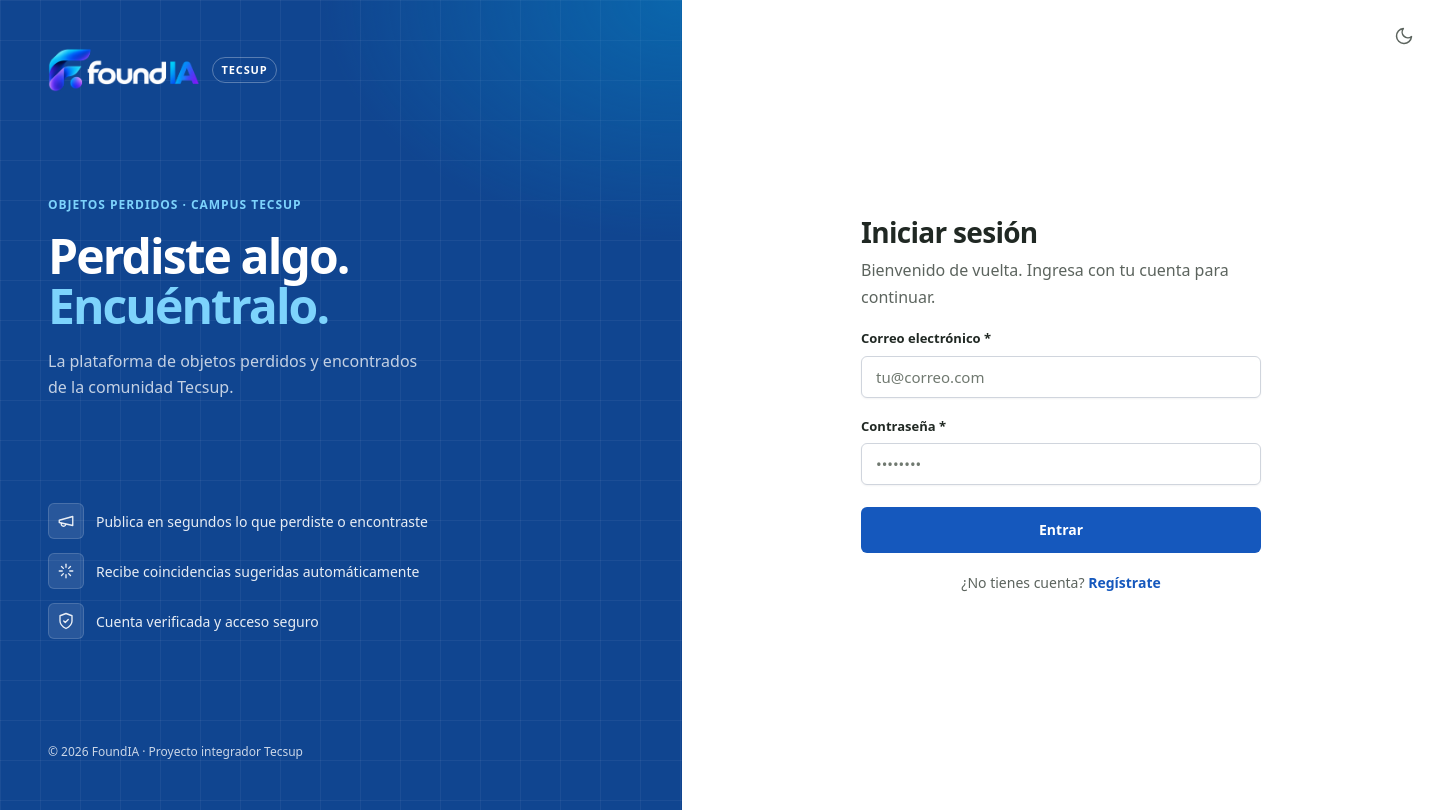
el login conserva el error de reenvío sin navegar a una confirmación falsa
Type "amore@prueba.invalid" into the field labelled "Correo electrónico *".
click(1061, 377); type("amore@prueba.invalid")  # box [861,356,1261,398]
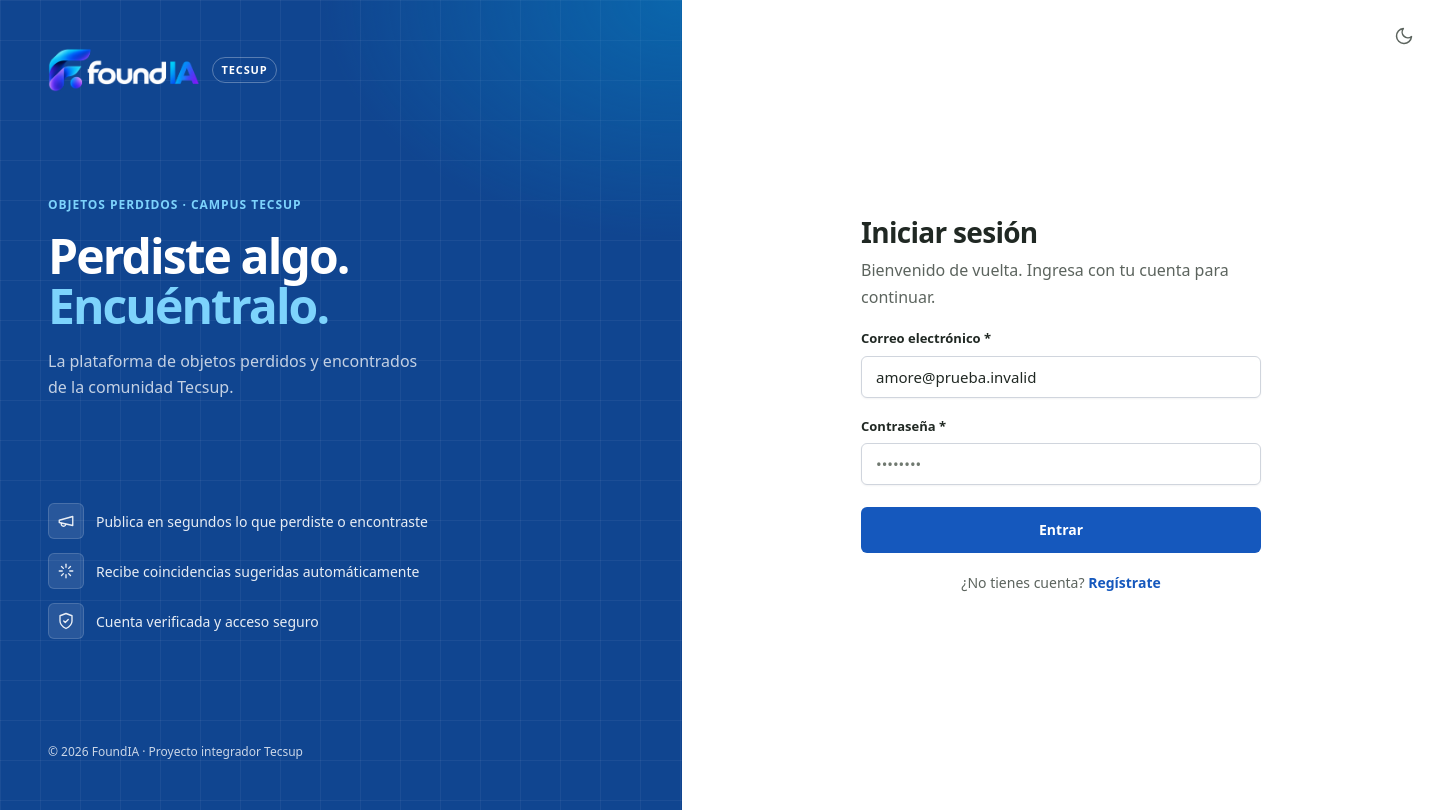
Type "Segura123!" into the password field labelled "Contraseña *".
click(1061, 464); type("Segura123!")  # box [861,443,1261,485]
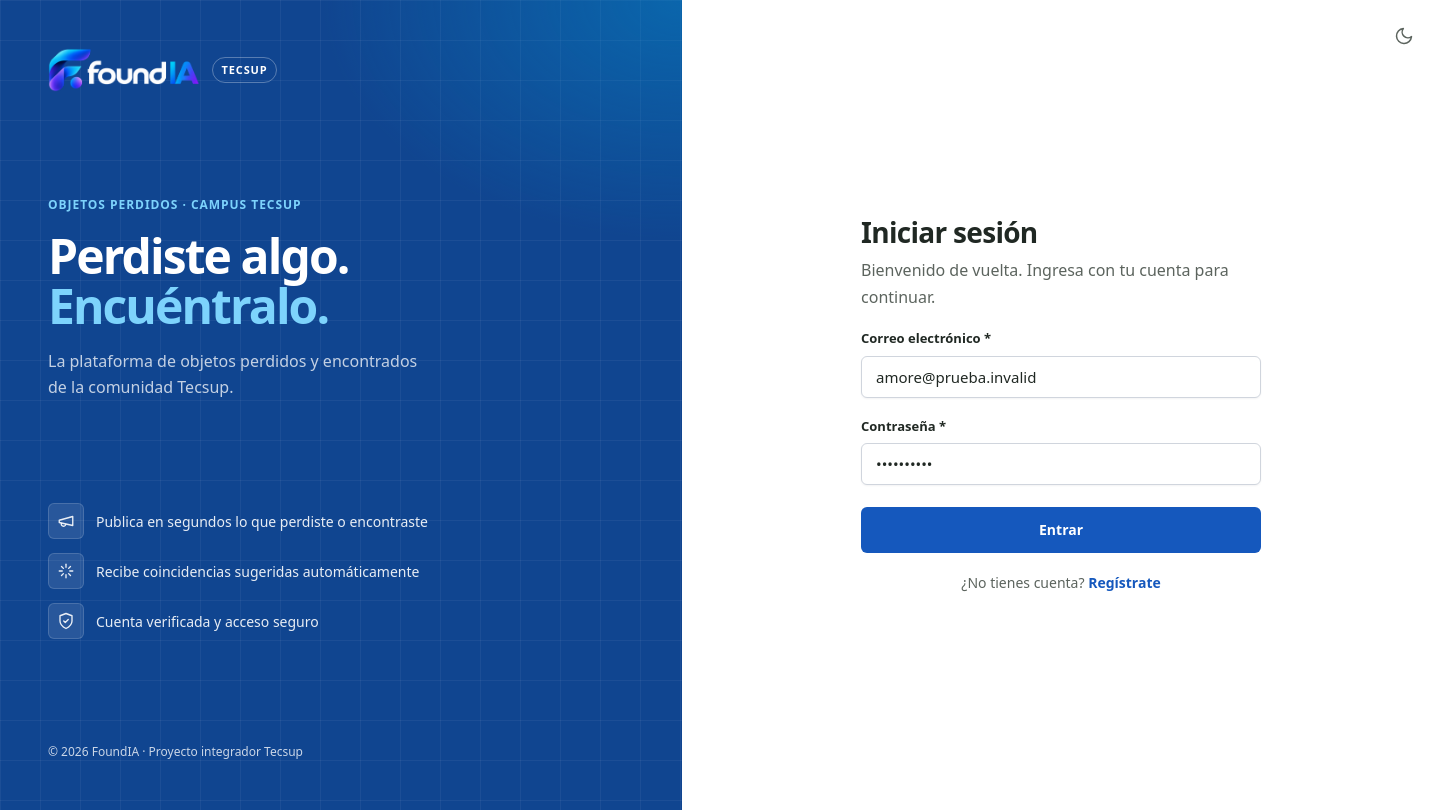
Click the button "Entrar".
click(1061, 530)  # box [861,507,1261,553]
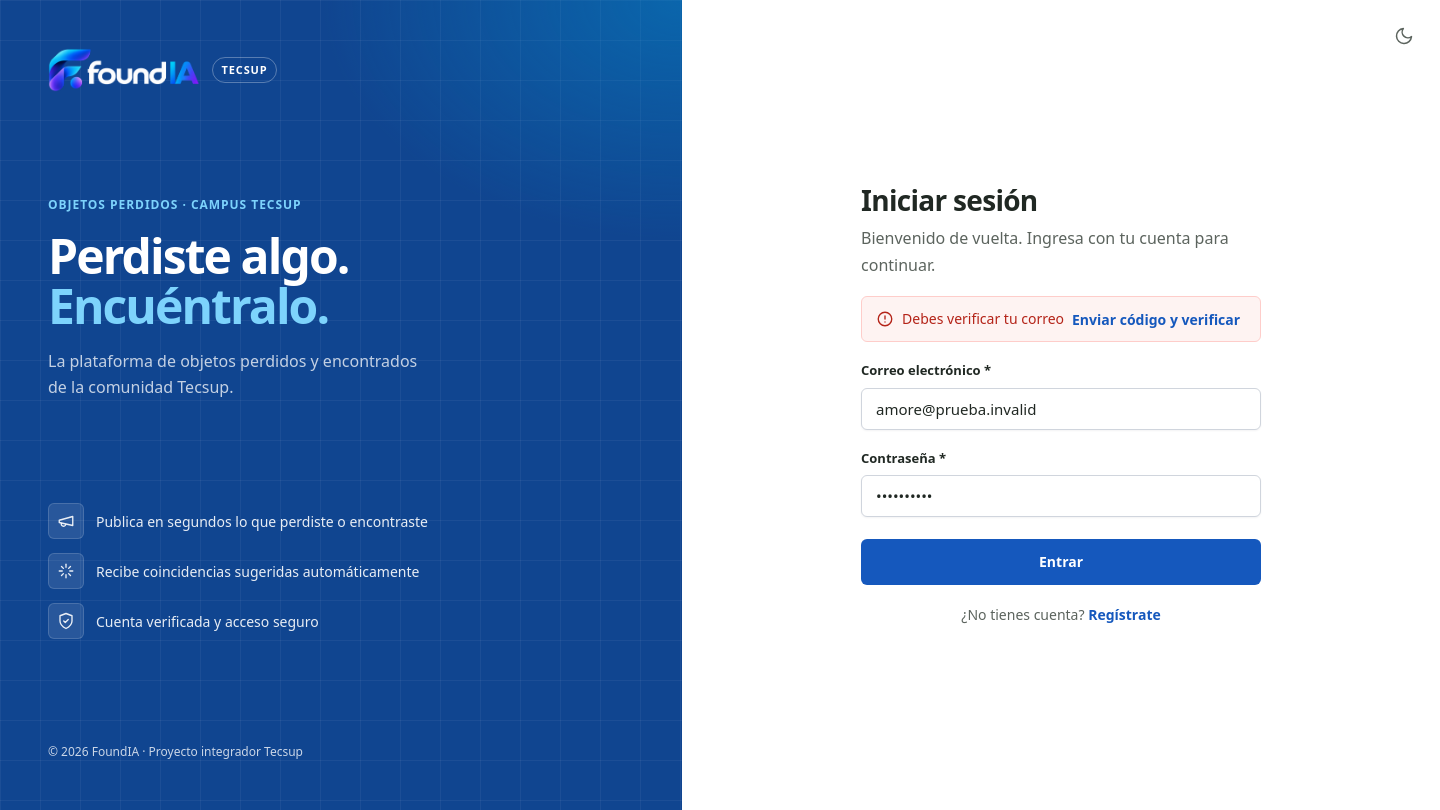
Click the button "Enviar código y verificar".
click(1156, 319)  # box [1072,310,1240,329]
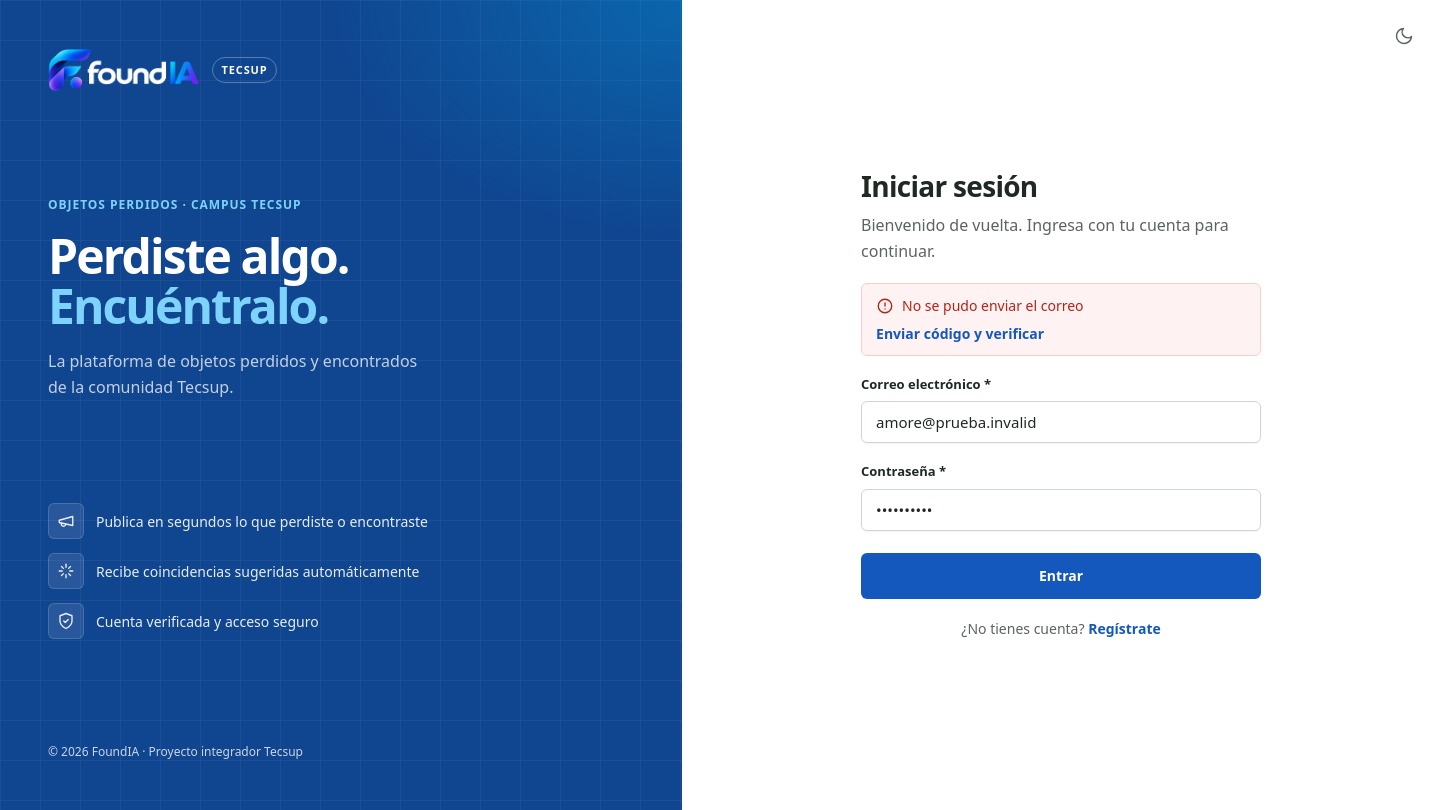
Expected: the heading "Iniciar sesión" is shown, [861,167,1038,205]
Now the text "No se pudo enviar el correo Enviar código y verificar" is shown, box [861,282,1261,356]
Click the button "Enviar código y verificar".
click(960, 333)  # box [876,324,1044,343]
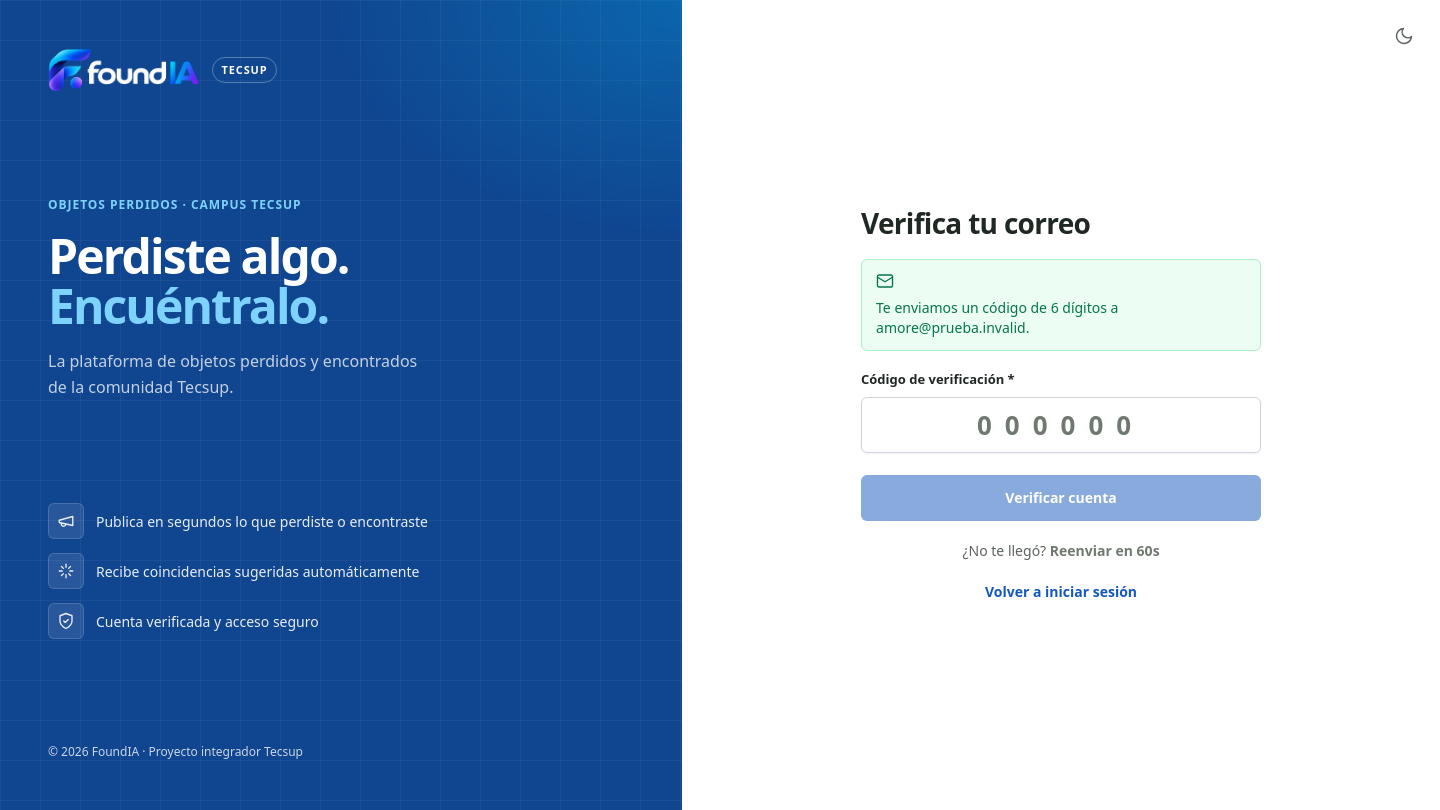
Now the heading "Verifica tu correo" is shown, box [861,204,1090,242]
Now the text "Te enviamos un código de 6 dígitos a amore@prueba.invalid." is shown, box [861,259,1261,351]
Now the button "Reenviar en 60s" is disabled, box [1050,541,1160,560]
